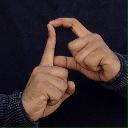hand: (20, 22, 75, 122), (49, 17, 121, 82)
